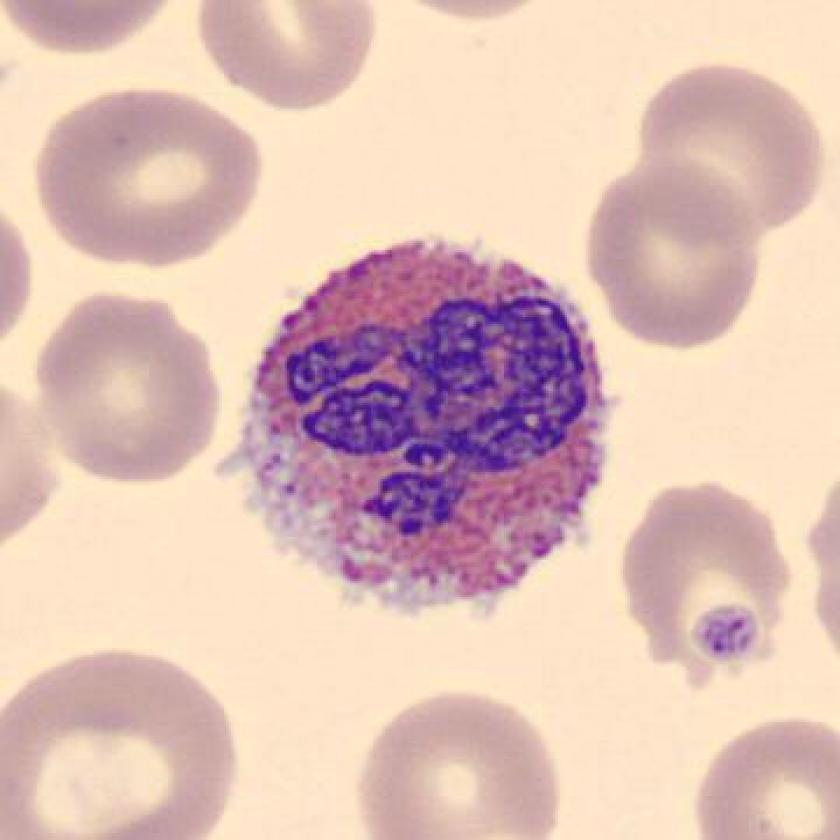eosinophil: (223, 216, 617, 640)
